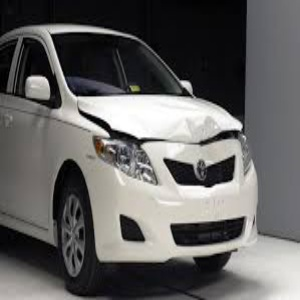bonnet: (96, 99, 244, 142)
